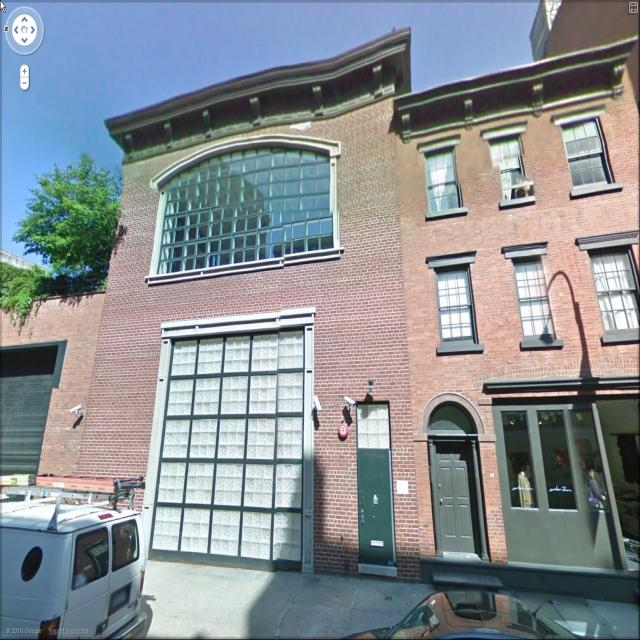b_1: (80, 36, 417, 596), (393, 56, 640, 579)
